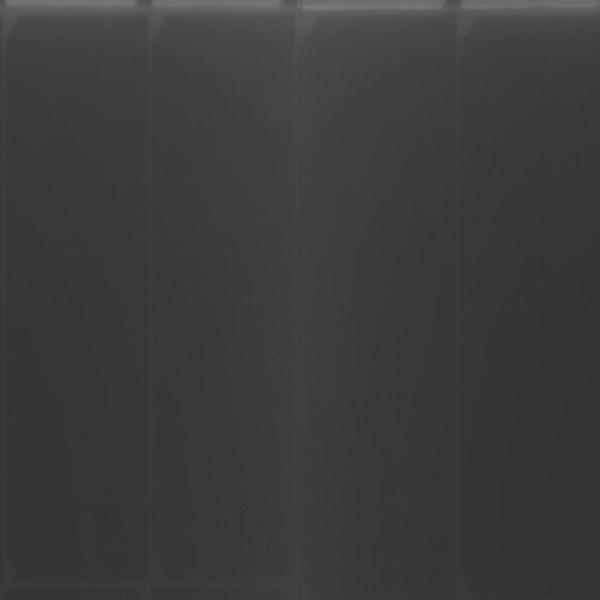no_electricity: (2, 2, 600, 600)
